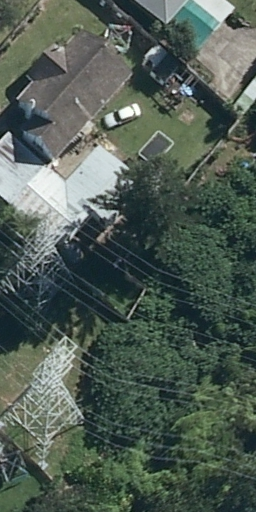TT: (3, 337, 84, 469), (5, 217, 77, 313)
